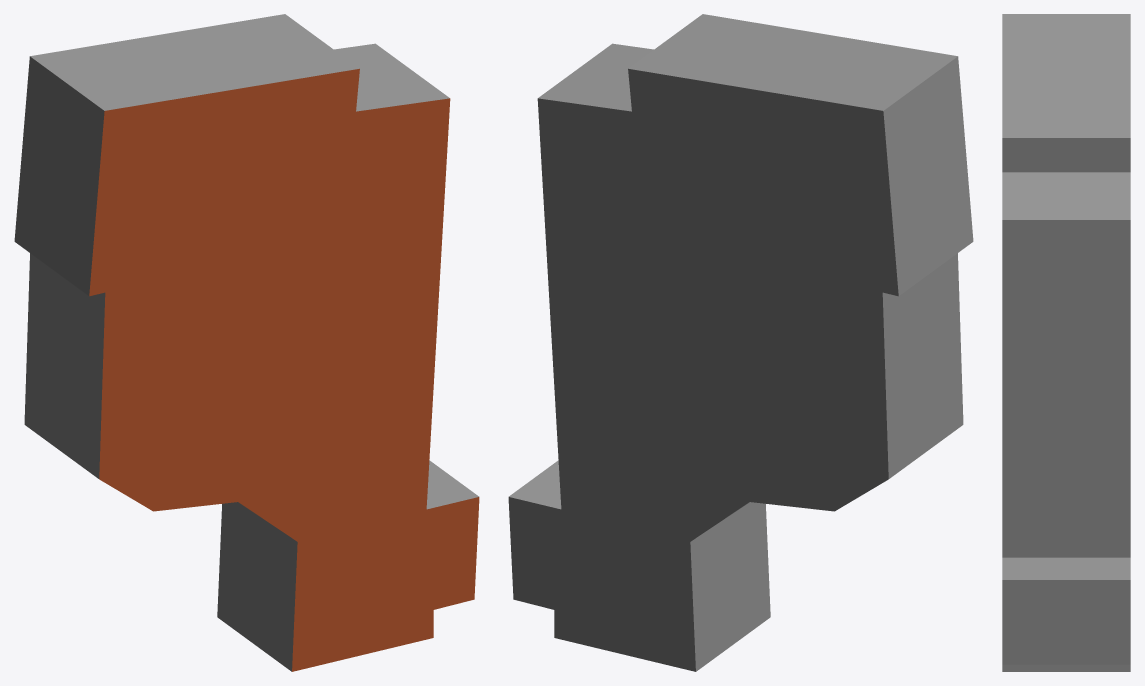
File: construction_1485_assumed_A_Casa_h6m.obj
The picture shows the model from 3 angles, left to right: view 1: azimuth 30°, elevation 25°; view 2: azimuth 150°, elevation 25°; view 3: azimuth 270°, elevation 25°; orthographic projection. The views are drawn at different scales.
Visible parts, largest first — view 1: construction_1485_assumed_A_Casa; view 2: construction_1485_assumed_A_Casa; view 3: construction_1485_assumed_A_Casa.
Boxes of the visible parts, bbox=[...] form: construction_1485_assumed_A_Casa: bbox=[14, 14, 479, 671]; construction_1485_assumed_A_Casa: bbox=[508, 14, 973, 671]; construction_1485_assumed_A_Casa: bbox=[1002, 14, 1130, 671].
Bounding box in the file's own units: 18.09 × 26.89 × 6.
